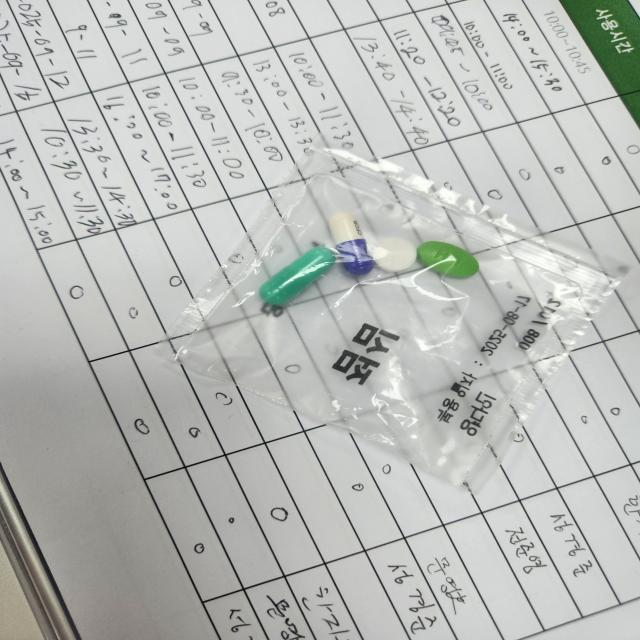러키펜정: (374, 241, 419, 271)
씨엠지세파클러캡슐: (329, 215, 378, 280)
에르도캡슐: (259, 247, 336, 306)
휴티렌정: (419, 241, 479, 280)
